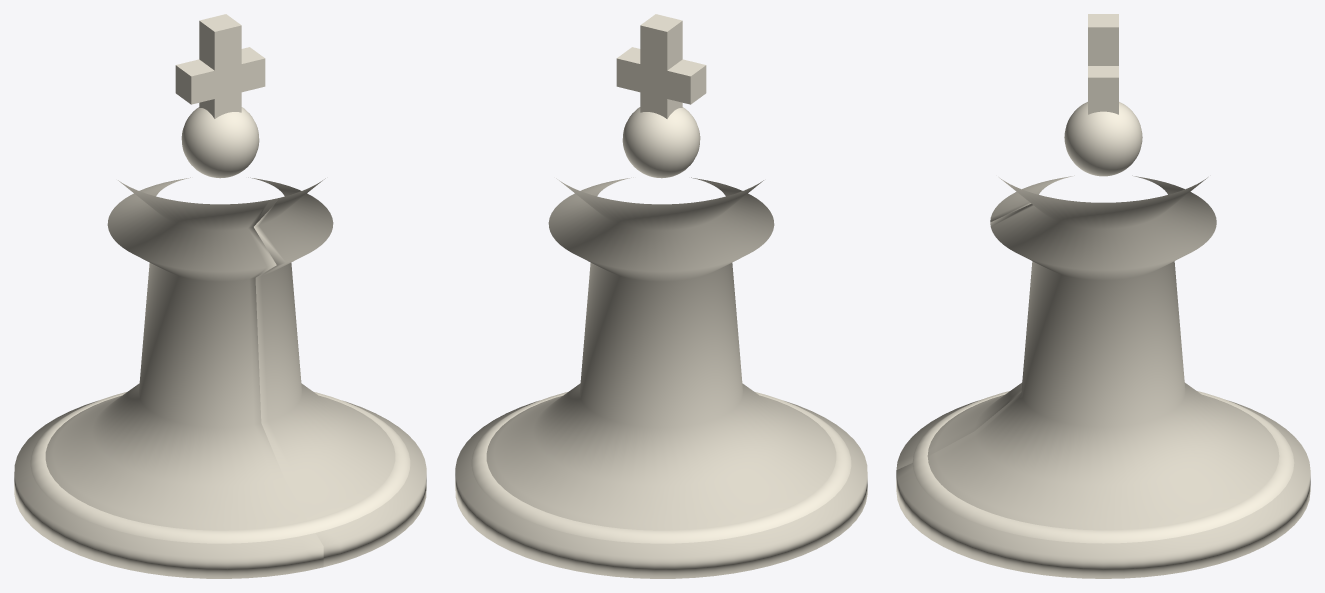
3 views of the same model, side by side, from view 1: azimuth 30°, elevation 25°; view 2: azimuth 150°, elevation 25°; view 3: azimuth 270°, elevation 25° (orthographic).
Bounding box in the file's own units: 1.06 × 1.33 × 1.06.
